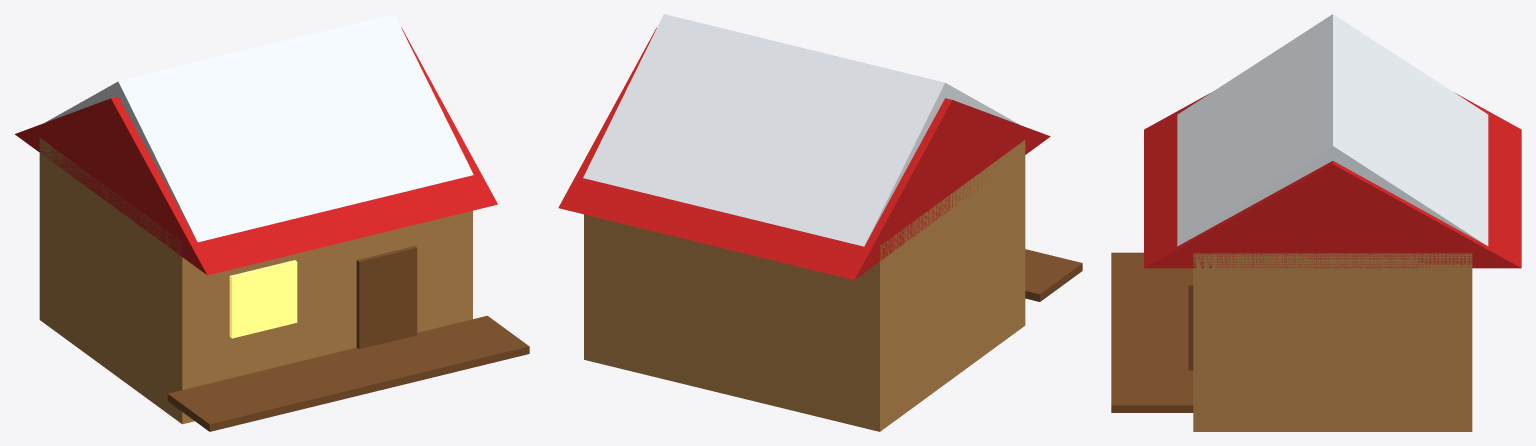
Rendered from chalet.glb.
3 renders of one model, left to right at view 1: azimuth 30°, elevation 25°; view 2: azimuth 150°, elevation 25°; view 3: azimuth 270°, elevation 25°, orthographic. The views are drawn at different scales.
Parts seen in each view (by area): view 1: chalet; view 2: chalet; view 3: chalet.
Part boxes in pixels (x1,y1,x2,y2): chalet: (15,14,529,431); chalet: (558,14,1082,431); chalet: (1111,14,1521,431).
Bounding box in the file's own units: 4.4 × 3.8 × 5.
